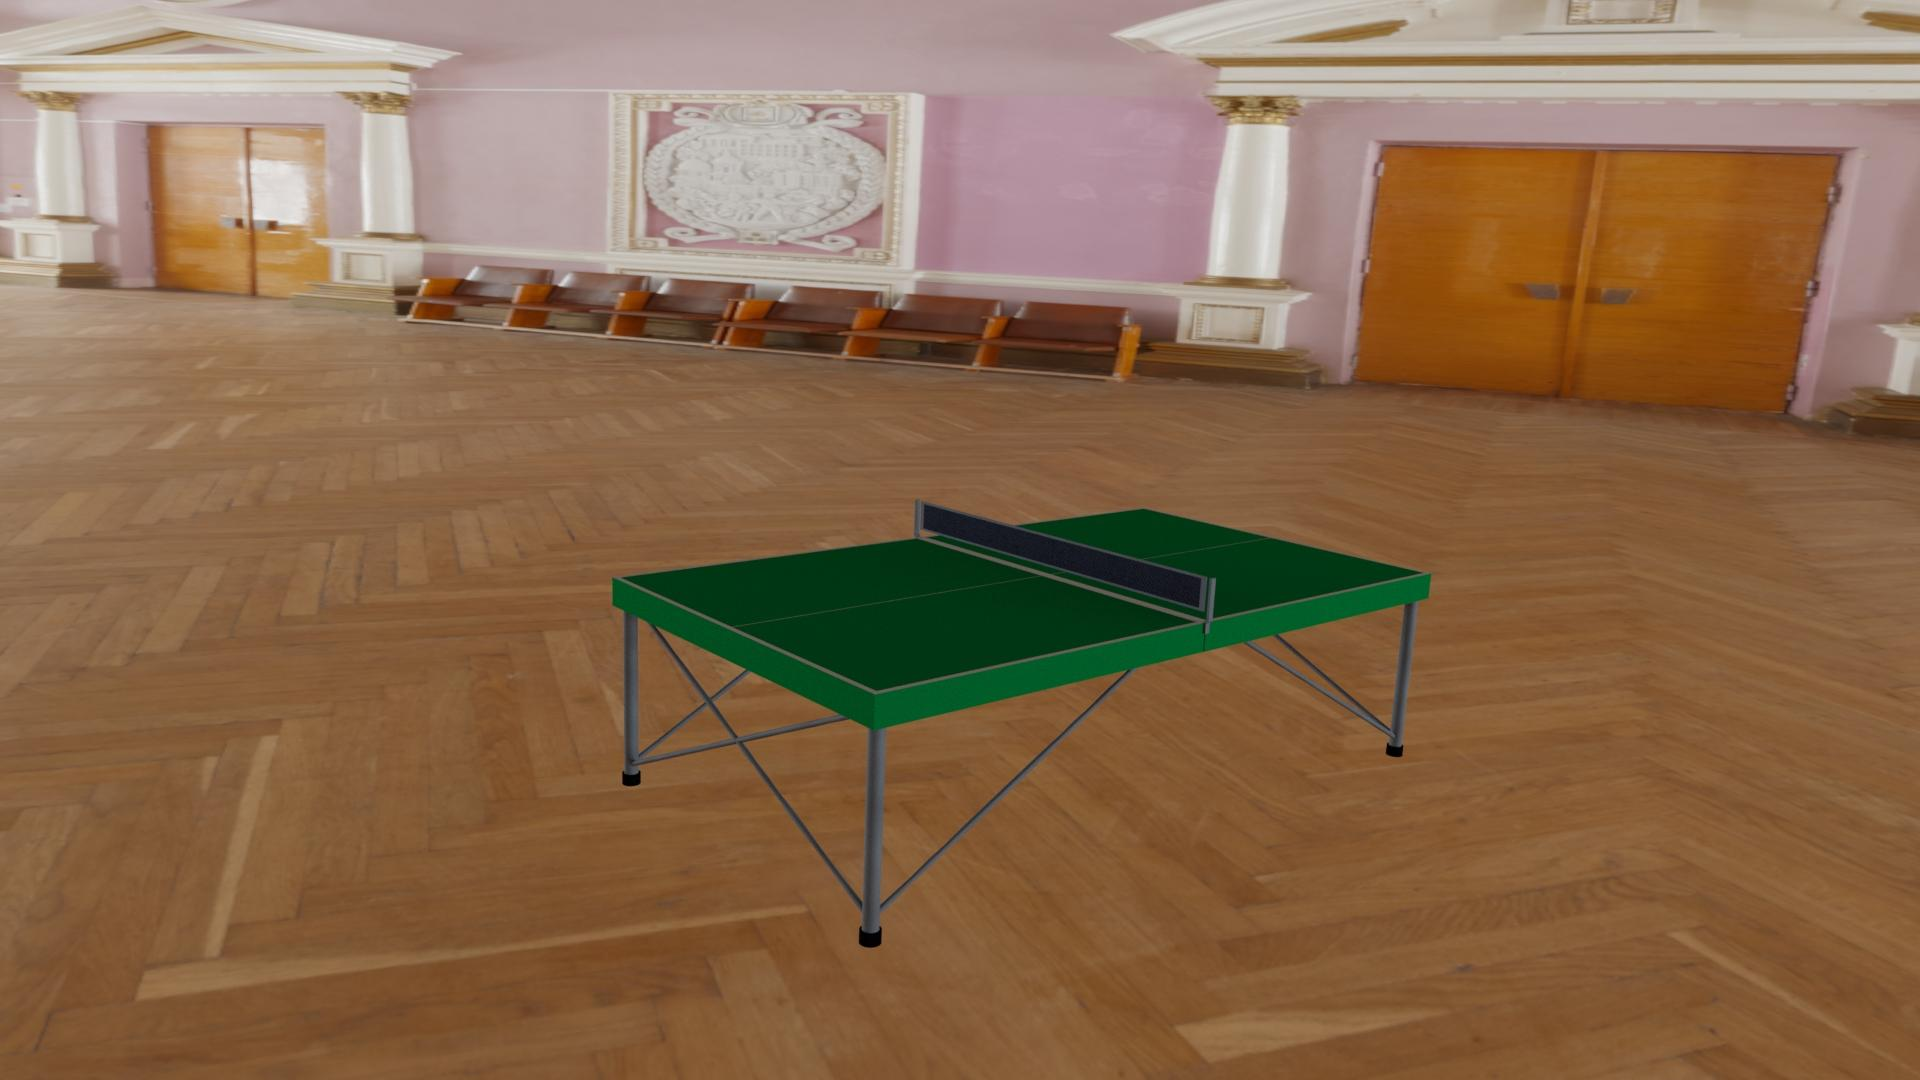table: (620, 509, 1424, 691)
